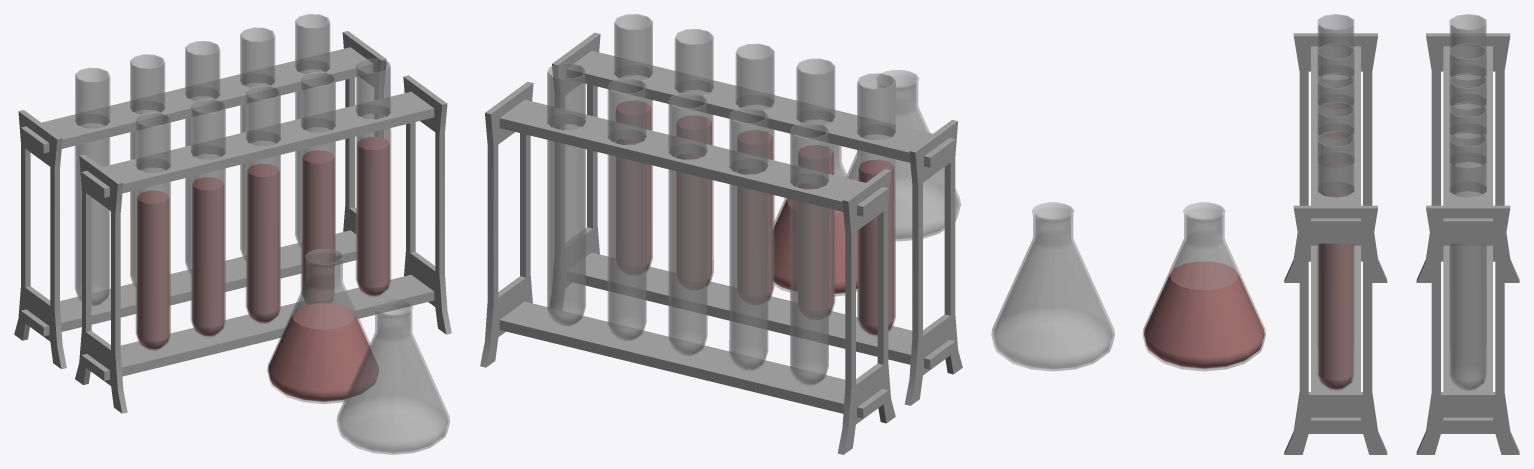
File: SM_Lab_Extras.fbx
The picture shows the model from 3 angles, left to right: view 1: azimuth 30°, elevation 25°; view 2: azimuth 150°, elevation 25°; view 3: azimuth 270°, elevation 25°; orthographic projection. The views are drawn at different scales.
Parts seen in each view (by area): view 1: reagänzgläser_voll, reagänzgläser, Erlenmeyer_flask, Erlenmeyer_flask_voll; view 2: reagänzgläser, reagänzgläser_voll, Erlenmeyer_flask, Erlenmeyer_flask_voll; view 3: reagänzgläser, reagänzgläser_voll, Erlenmeyer_flask_voll, Erlenmeyer_flask.
Part boxes in pixels (<box>): reagänzgläser_voll: <box>75,58,451,413</box>; reagänzgläser: <box>14,14,386,369</box>; Erlenmeyer_flask: <box>336,299,449,454</box>; Erlenmeyer_flask_voll: <box>267,248,378,403</box>; reagänzgläser: <box>480,63,895,454</box>; reagänzgläser_voll: <box>549,14,962,405</box>; Erlenmeyer_flask: <box>846,70,960,241</box>; Erlenmeyer_flask_voll: <box>773,144,858,296</box>; reagänzgläser: <box>1416,14,1519,454</box>; reagänzgläser_voll: <box>1284,14,1387,454</box>; Erlenmeyer_flask_voll: <box>1142,202,1265,371</box>; Erlenmeyer_flask: <box>991,202,1114,371</box>.
Bounding box in the file's own units: 12.38 × 9.15 × 15.28.
